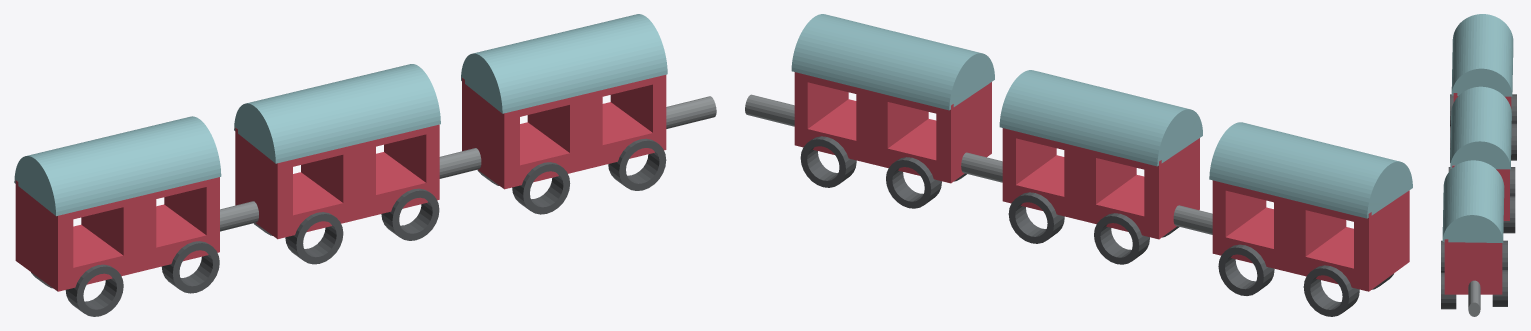
Rendered from train.glb.
The picture shows the model from 3 angles, left to right: view 1: azimuth 30°, elevation 25°; view 2: azimuth 150°, elevation 25°; view 3: azimuth 270°, elevation 25°; orthographic projection. The views are drawn at different scales.
Parts seen in each view (by area): view 1: Mesh_Mesh_head_geo.001_lambert2SG.001; view 2: Mesh_Mesh_head_geo.001_lambert2SG.001; view 3: Mesh_Mesh_head_geo.001_lambert2SG.001.
Boxes of the visible parts, x1,y1,x2,y2 form: Mesh_Mesh_head_geo.001_lambert2SG.001: (14,14,716,316); Mesh_Mesh_head_geo.001_lambert2SG.001: (745,14,1412,316); Mesh_Mesh_head_geo.001_lambert2SG.001: (1441,14,1516,316).
Bounding box in the file's own units: 174 × 37 × 25.
